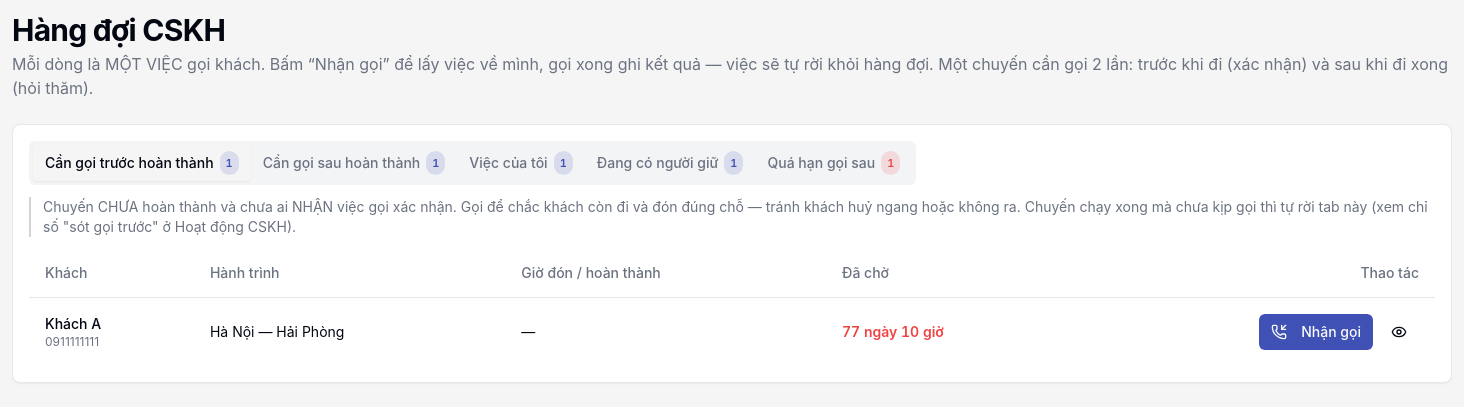
CrmQueuePage — trạng thái rỗng › đổi sang tab RỖNG: không mang theo dòng của tab cũ
Expected: the text "Khách A" is shown, [45,314,101,332]
Step 1. Click the tab "Quá hạn gọi sau 1" → (834,163), box [756,145,912,181]
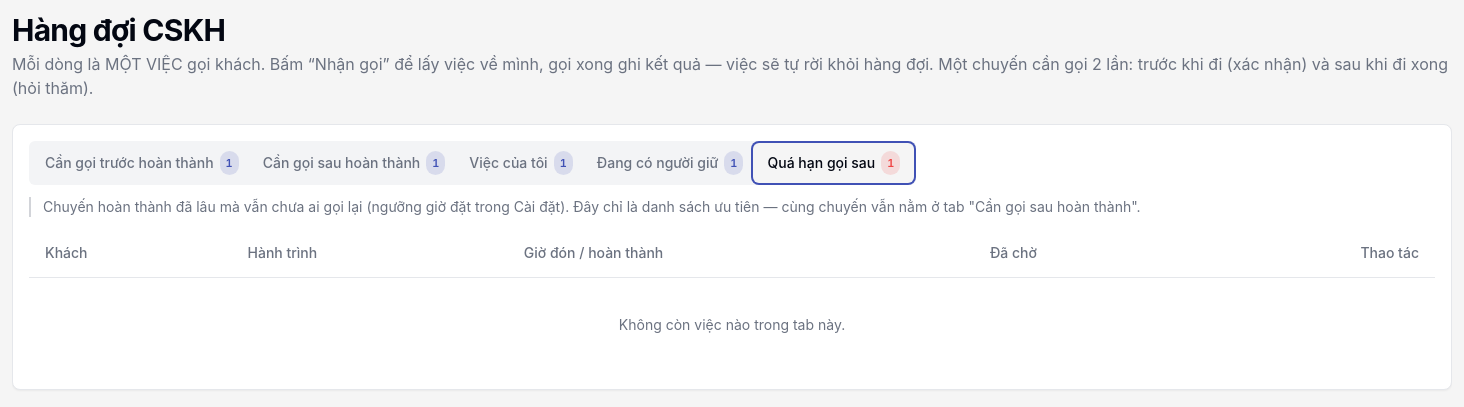
Expected: the text "Khách A" is gone
